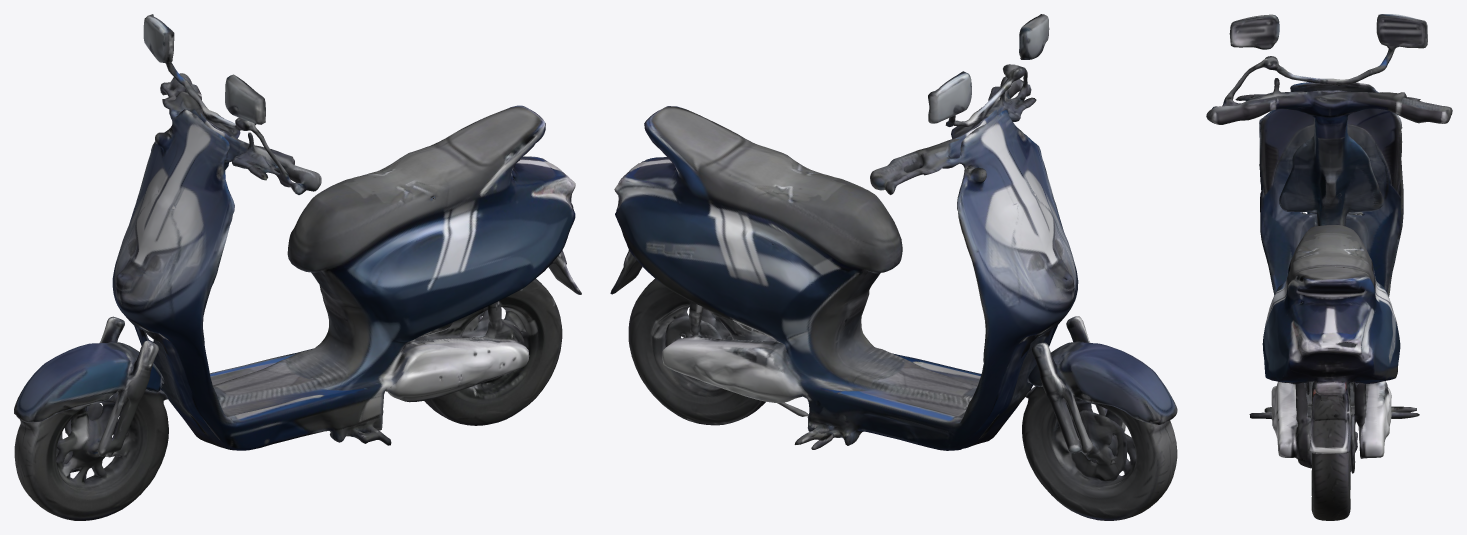
The model's file is Blue_Electric_Scooter_0905084118.fbx.
3 views of the same model, side by side, from view 1: azimuth 30°, elevation 25°; view 2: azimuth 150°, elevation 25°; view 3: azimuth 270°, elevation 25° (orthographic). The views are drawn at different scales.
Visible parts, largest first — view 1: Mesh_0; view 2: Mesh_0; view 3: Mesh_0.
Boxes of the visible parts, <box> form: Mesh_0: <box>14,14,581,520</box>; Mesh_0: <box>610,14,1177,520</box>; Mesh_0: <box>1206,14,1452,520</box>.
Size of the model in its own units: 200 by 152 by 89.33.
1 material, 1 textured.
